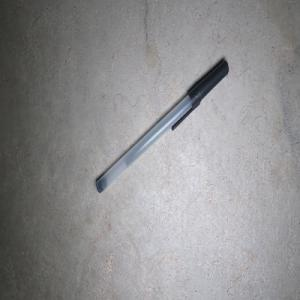Pen: (95, 60, 228, 193)
